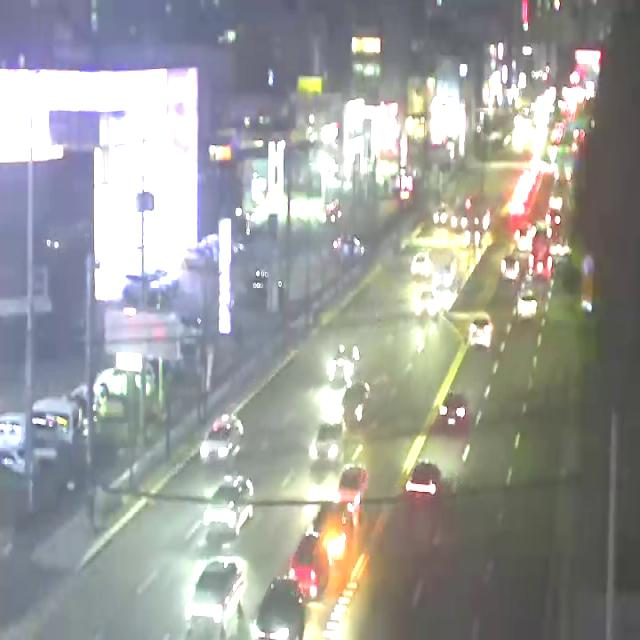Car: (185, 556, 245, 628), (250, 577, 306, 640), (203, 474, 254, 536), (288, 534, 329, 601), (311, 500, 354, 559), (200, 414, 243, 467), (335, 463, 369, 512), (310, 422, 344, 468), (405, 460, 440, 503), (341, 380, 370, 425), (328, 344, 357, 382), (439, 393, 468, 430), (469, 317, 494, 349), (435, 256, 456, 288), (517, 289, 537, 317), (411, 252, 432, 278), (500, 256, 520, 281), (416, 291, 437, 314), (432, 207, 448, 226)
